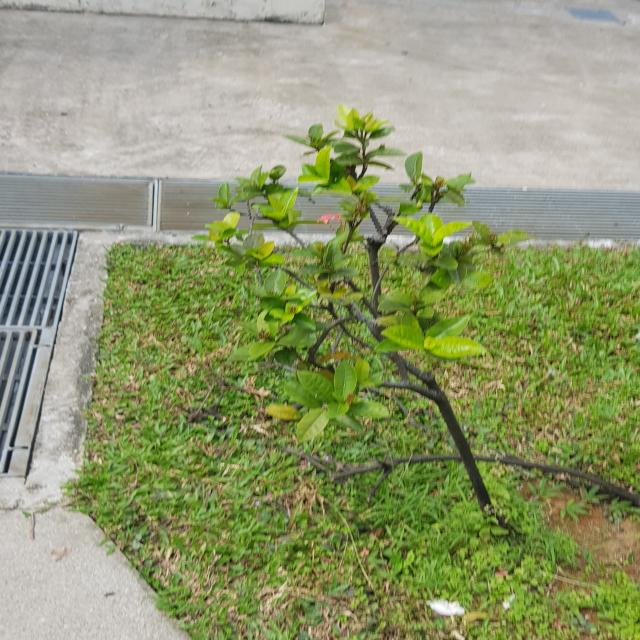Chinese-Ixora: (315, 208, 350, 235)
